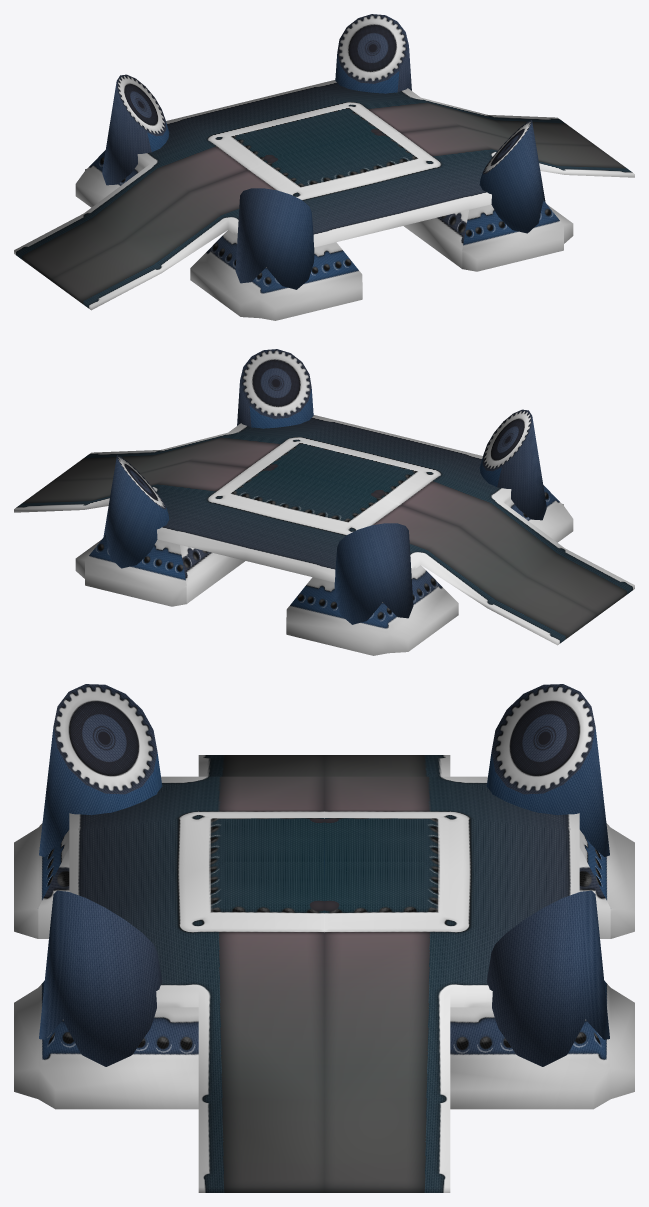
File: Vortice.fbx
3 views of the same model, one above another, from view 1: azimuth 30°, elevation 25°; view 2: azimuth 150°, elevation 25°; view 3: azimuth 270°, elevation 25° (orthographic). The views are drawn at different scales.
Parts seen in each view (by area): view 1: Cube; view 2: Cube; view 3: Cube.
Part boxes in pixels (box(x1,y1,x2,y2)): Cube: box(14, 14, 634, 320); Cube: box(14, 349, 634, 655); Cube: box(14, 684, 634, 1192).
Size of the model in its own units: 10.7 by 2.17 by 6.5.
Materials: 1 (1 with a texture image).
